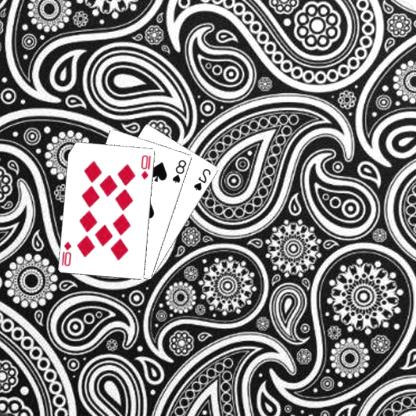10D: (141, 152, 154, 180), (61, 239, 74, 267)
2S: (193, 166, 214, 192)
8S: (172, 157, 189, 184)
